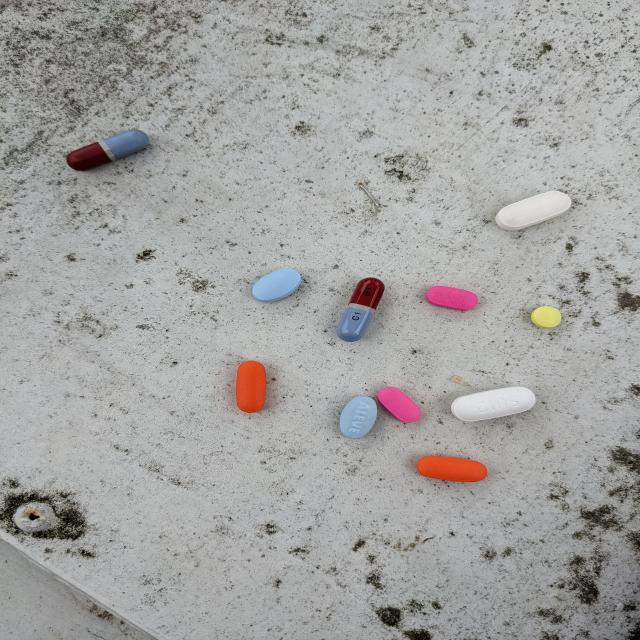non-organic waste: (66, 128, 151, 172), (335, 277, 386, 343), (450, 385, 537, 423), (494, 190, 572, 231), (415, 455, 488, 483), (250, 267, 303, 303), (338, 394, 378, 440), (376, 386, 423, 424), (235, 359, 268, 413), (424, 285, 478, 312), (530, 305, 562, 329)
